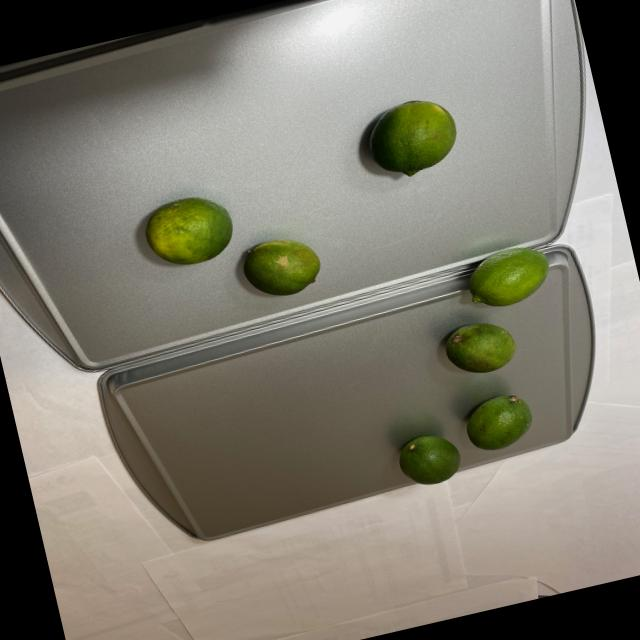lemon: (358, 237, 594, 496), (128, 170, 330, 329), (352, 85, 466, 190)
